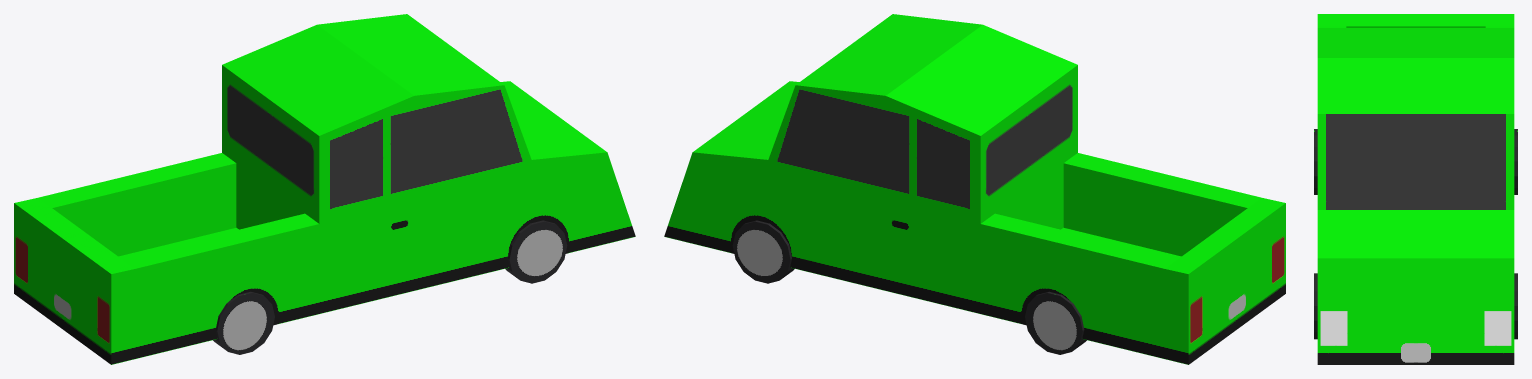
File: pickup2.dae
3 views of the same model, side by side, from view 1: azimuth 30°, elevation 25°; view 2: azimuth 150°, elevation 25°; view 3: azimuth 270°, elevation 25° (orthographic).
Visible parts, largest first — view 1: Cube; view 2: Cube; view 3: Cube.
Part boxes in pixels (x1,y1,x2,y2): Cube: (14, 14, 635, 364); Cube: (664, 14, 1285, 364); Cube: (1314, 14, 1517, 364).
Size of the model in its own units: 3.36 by 1.12 by 1.32.
1 material, 1 textured.
